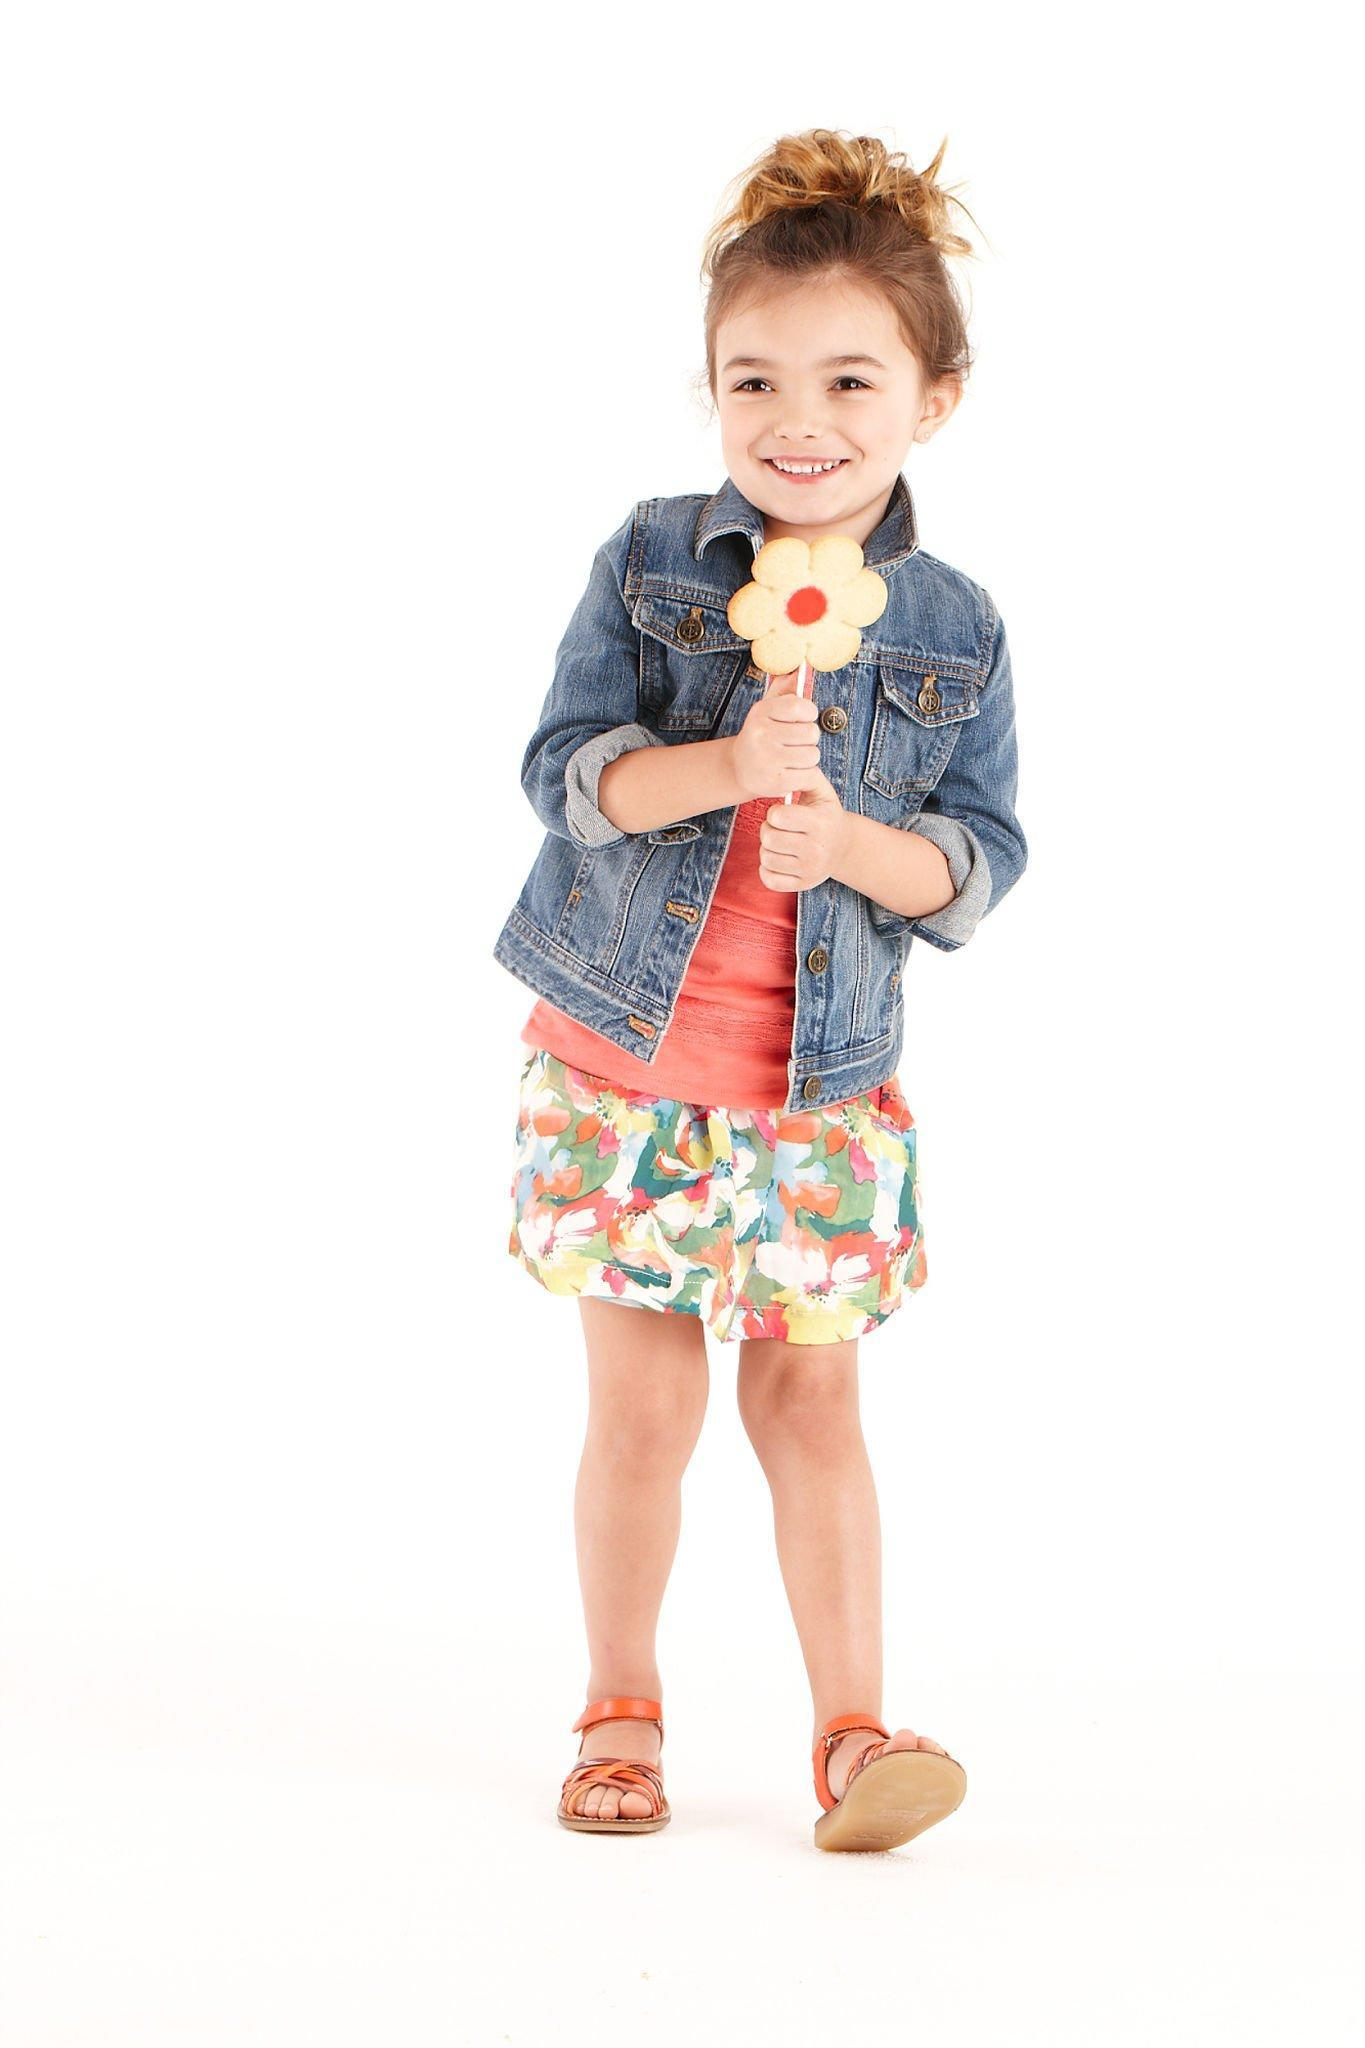Healthy: (687, 271, 966, 528)
